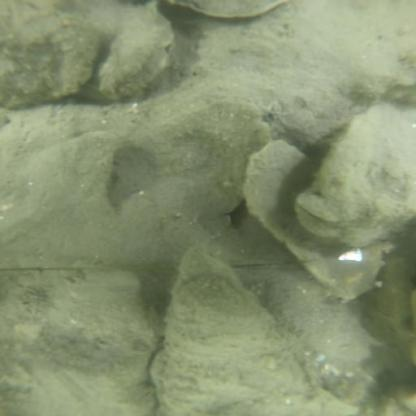3: (157, 0, 299, 17)
Oyster-Closed: (247, 139, 389, 302), (298, 104, 408, 247), (101, 6, 171, 102)
Oyster-Open: (153, 246, 320, 416), (29, 276, 155, 416), (131, 104, 269, 216), (1, 4, 98, 105), (19, 131, 121, 206)
